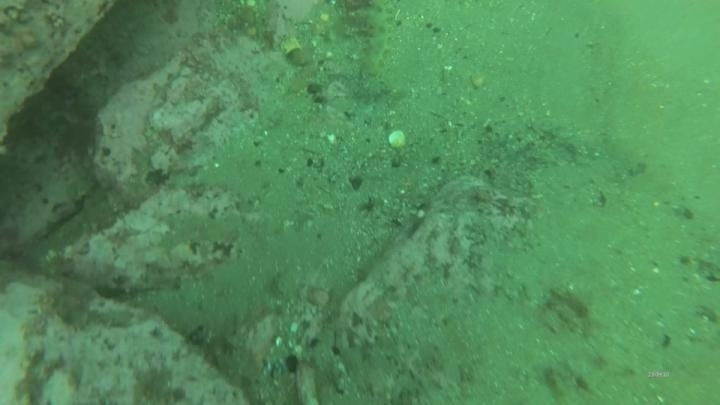holothurian: (152, 206, 246, 259), (355, 2, 401, 93), (81, 295, 142, 331)
